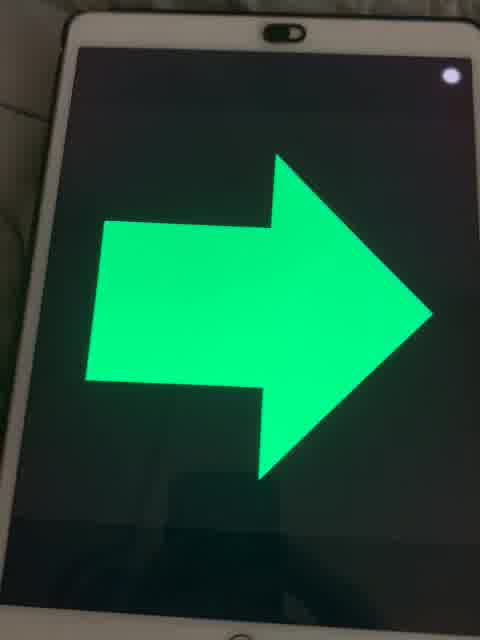right: (84, 144, 435, 490)
